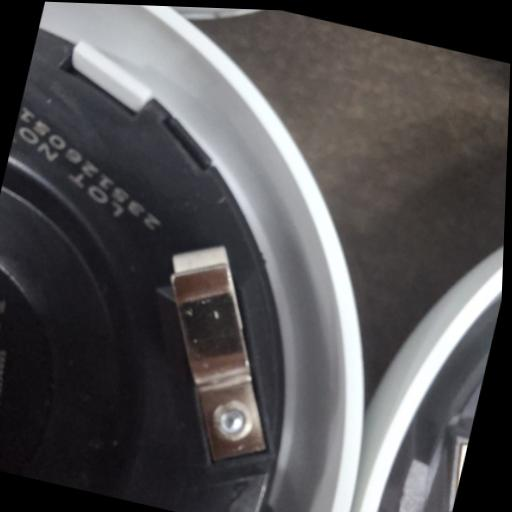yayli: (124, 232, 310, 473)
